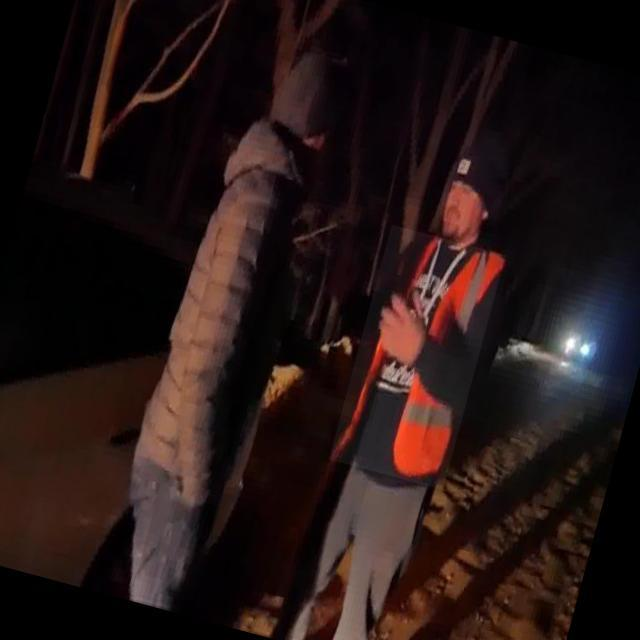Person: (123, 2, 349, 611), (345, 119, 544, 640)
Safety Vest: (329, 225, 506, 490)
bare-arms: (377, 280, 446, 370)
no-helmet: (272, 40, 342, 122), (448, 130, 511, 205)
no-vest: (133, 125, 316, 497)
